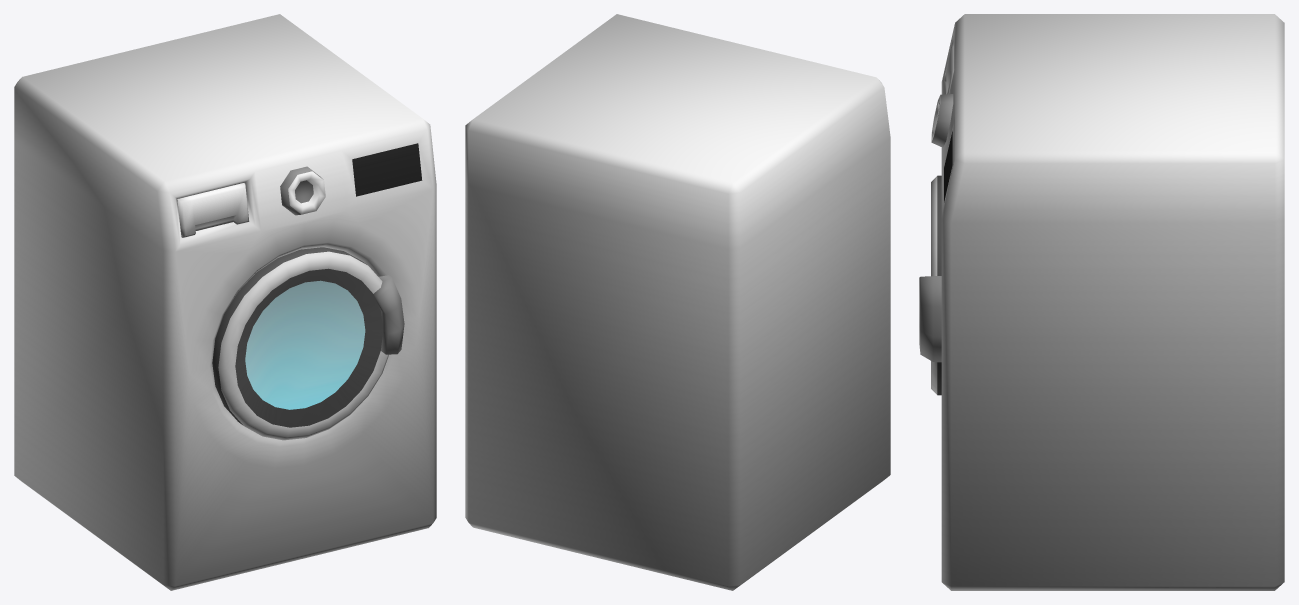
Rendered from SM_Wash_machine_1.fbx.
3 renders of one model, left to right at view 1: azimuth 30°, elevation 25°; view 2: azimuth 150°, elevation 25°; view 3: azimuth 270°, elevation 25°, orthographic. The views are drawn at different scales.
Parts seen in each view (by area): view 1: SM_Wash_machine_1; view 2: SM_Wash_machine_1; view 3: SM_Wash_machine_1.
Boxes of the visible parts, box(x1,y1,x2,y2) form: SM_Wash_machine_1: box(14, 14, 436, 590); SM_Wash_machine_1: box(465, 14, 890, 590); SM_Wash_machine_1: box(919, 14, 1284, 590).
Bounding box in the file's own units: 60 × 85 × 63.87.
Materials: 1 (1 with a texture image).
